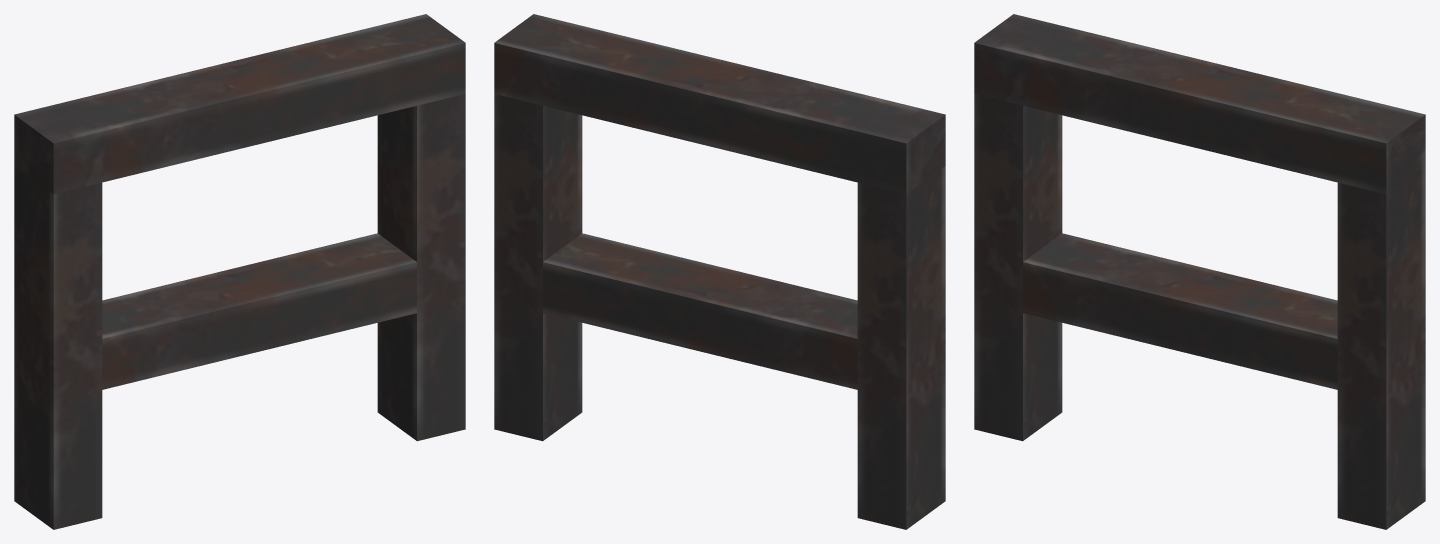
Rendered from pipe01_support01.fbx.
3 views of the same model, side by side, from view 1: azimuth 30°, elevation 25°; view 2: azimuth 150°, elevation 25°; view 3: azimuth 330°, elevation 25° (orthographic).
Parts seen in each view (by area): view 1: pipe01_support01; view 2: pipe01_support01; view 3: pipe01_support01.
Part boxes in pixels (x1,y1,x2,y2): pipe01_support01: (14, 14, 465, 529); pipe01_support01: (494, 14, 945, 529); pipe01_support01: (974, 14, 1425, 529).
Size of the model in its own units: 41.9 by 37.55 by 6.95.
